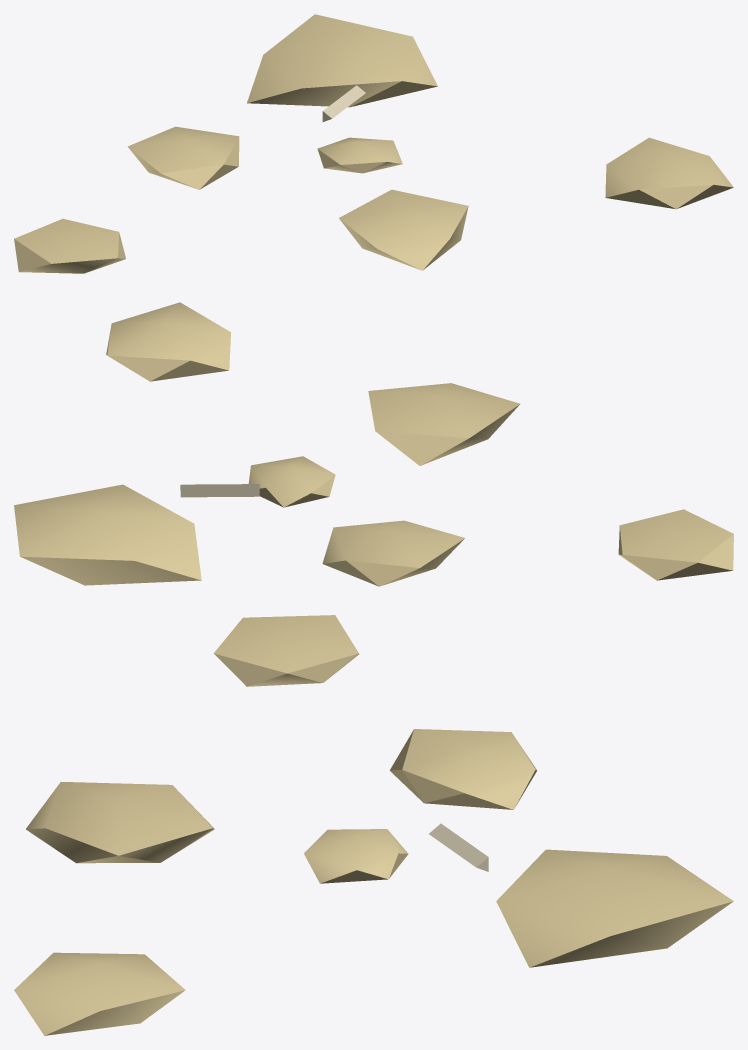
Rendered from gutter_fat.glb.
3 renders of one model, top to bottom at view 1: azimuth 30°, elevation 25°; view 2: azimuth 150°, elevation 25°; view 3: azimuth 270°, elevation 25°, orthographic. The views are drawn at different scales.
Parts seen in each view (by area): view 1: gutter_fat; view 2: gutter_fat; view 3: gutter_fat.
Boxes of the visible parts, x1,y1,x2,y2 form: gutter_fat: [14, 14, 733, 273]; gutter_fat: [14, 302, 733, 586]; gutter_fat: [14, 615, 733, 1035].
Size of the model in its own units: 1.2 by 0.0885 by 0.9023.
